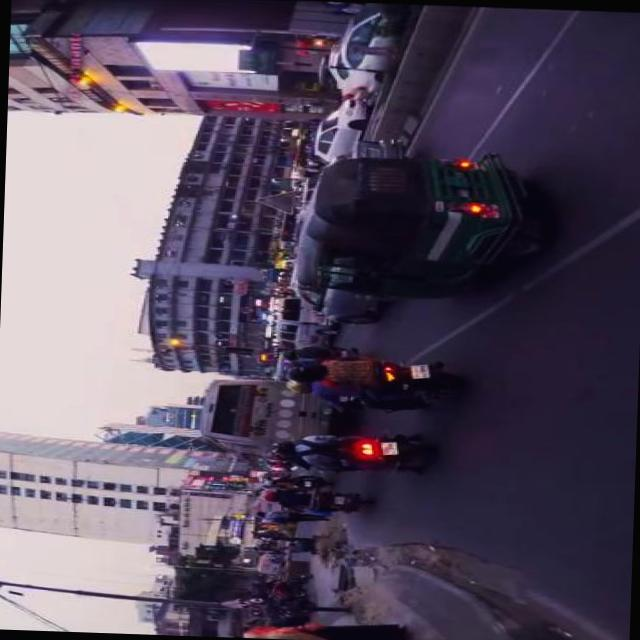bus: (193, 377, 324, 457)
car: (334, 2, 394, 92), (288, 280, 376, 326), (312, 98, 360, 162), (321, 43, 366, 98), (323, 137, 402, 165)
motorcycle: (290, 146, 537, 303), (314, 357, 462, 420), (307, 430, 433, 478), (257, 572, 311, 618), (284, 488, 366, 516), (316, 344, 362, 360), (285, 475, 324, 490)
truck: (272, 298, 331, 350)
